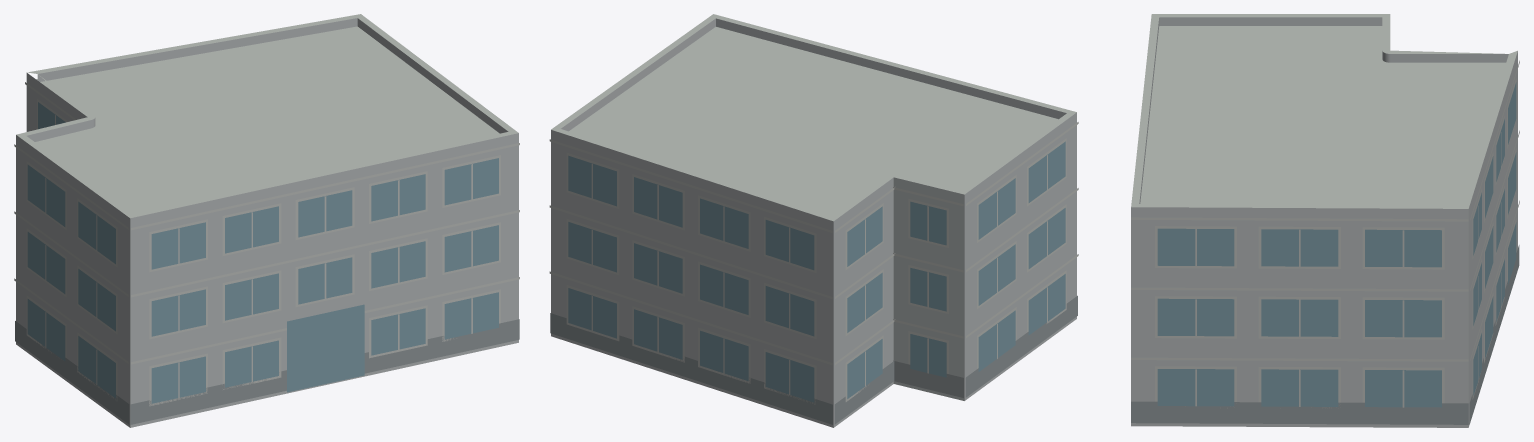
File: public-f2e8400a-e9d4-4d72-92f9-853659c09b2f.glb
3 views of the same model, side by side, from view 1: azimuth 30°, elevation 25°; view 2: azimuth 150°, elevation 25°; view 3: azimuth 270°, elevation 25° (orthographic). The views are drawn at different scales.
Parts seen in each view (by area): view 1: public-f2e8400a-e9d4-4d72-92f9-853659c09b2f; view 2: public-f2e8400a-e9d4-4d72-92f9-853659c09b2f; view 3: public-f2e8400a-e9d4-4d72-92f9-853659c09b2f.
Part boxes in pixels (x1,y1,x2,y2): public-f2e8400a-e9d4-4d72-92f9-853659c09b2f: (14,14,519,427); public-f2e8400a-e9d4-4d72-92f9-853659c09b2f: (549,14,1078,427); public-f2e8400a-e9d4-4d72-92f9-853659c09b2f: (1131,14,1519,427).
Bounding box in the file's own units: 17.62 × 9.15 × 15.62.
